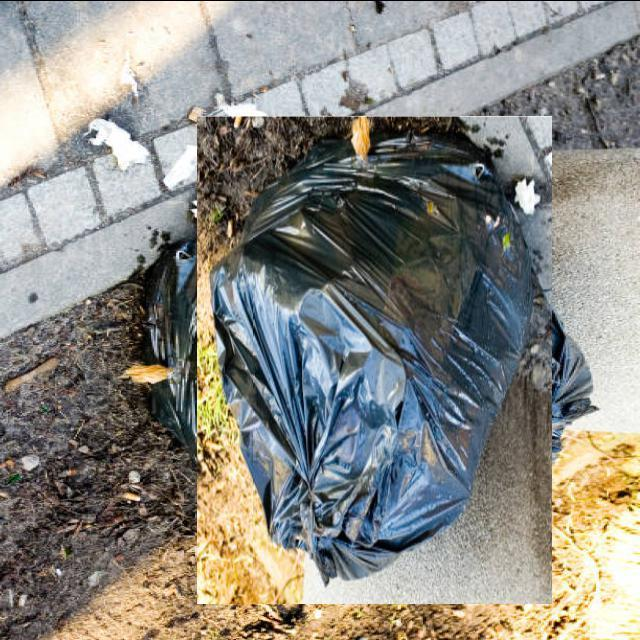Trashbag: (209, 143, 540, 579)
